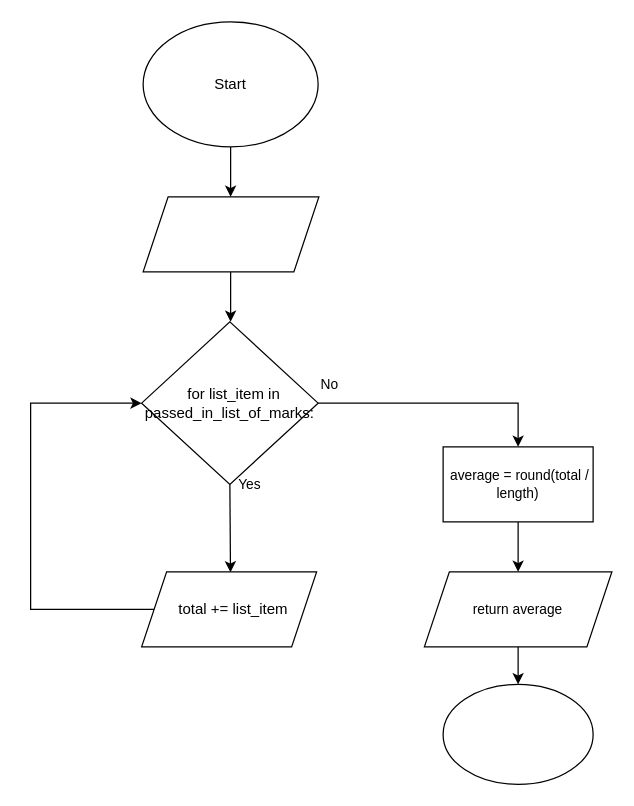
The diagram is 634 pixels wide and 806 high, and some of its shapes have lost their labels. Each missing label, with the box of its shape:
get list_of_marks: (142, 196, 319, 272)
Stop: (442, 683, 593, 784)
